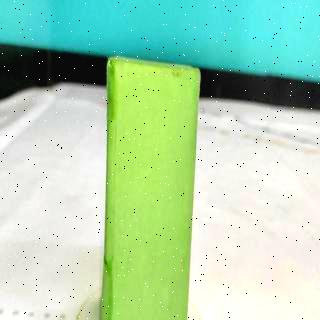greenbox: (106, 55, 204, 320)
